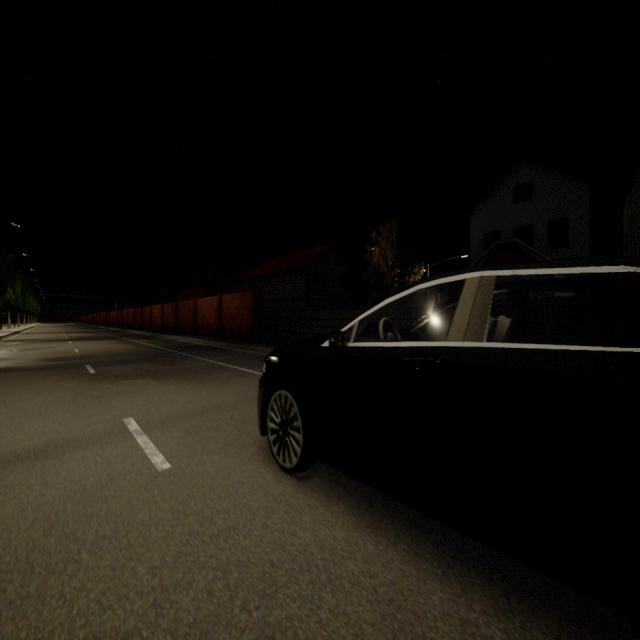Vehicle: (259, 266, 640, 587)
